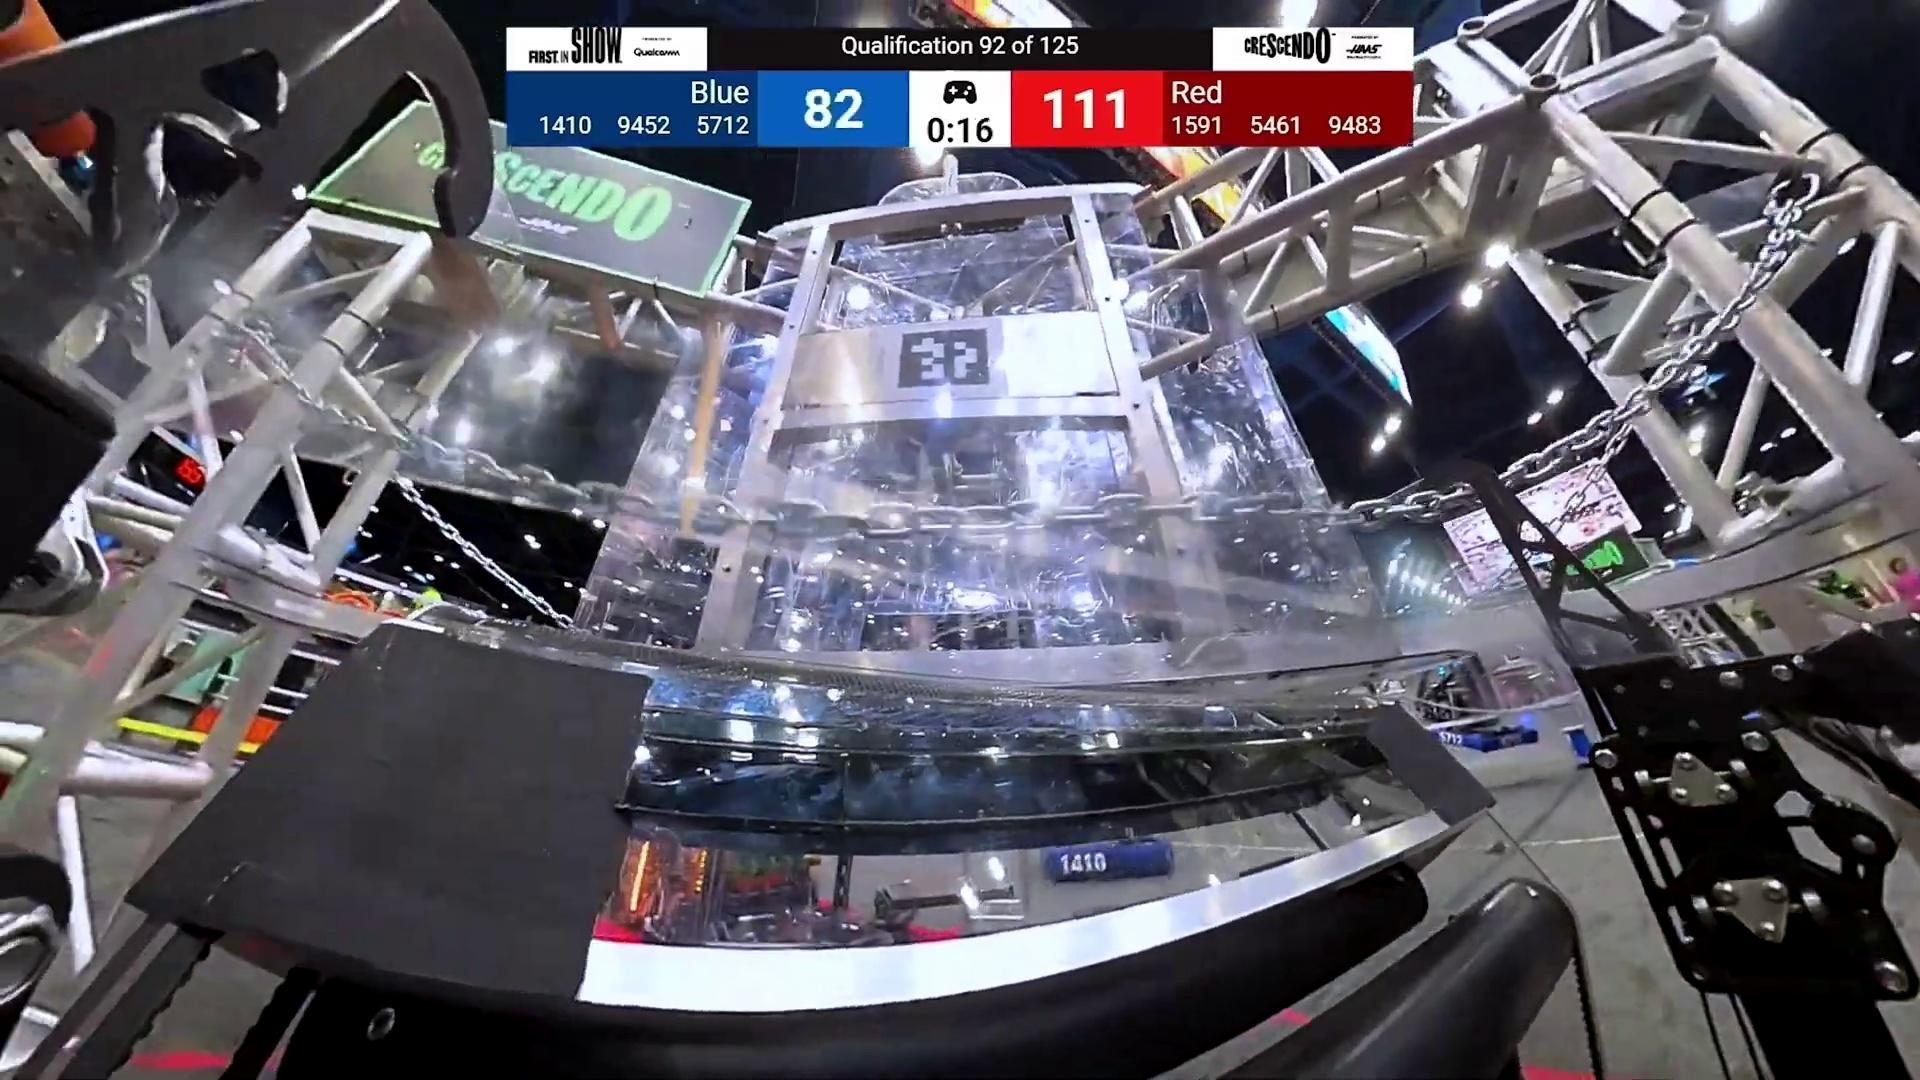robot: (593, 837, 964, 947), (1418, 670, 1539, 753), (1040, 841, 1174, 884)
